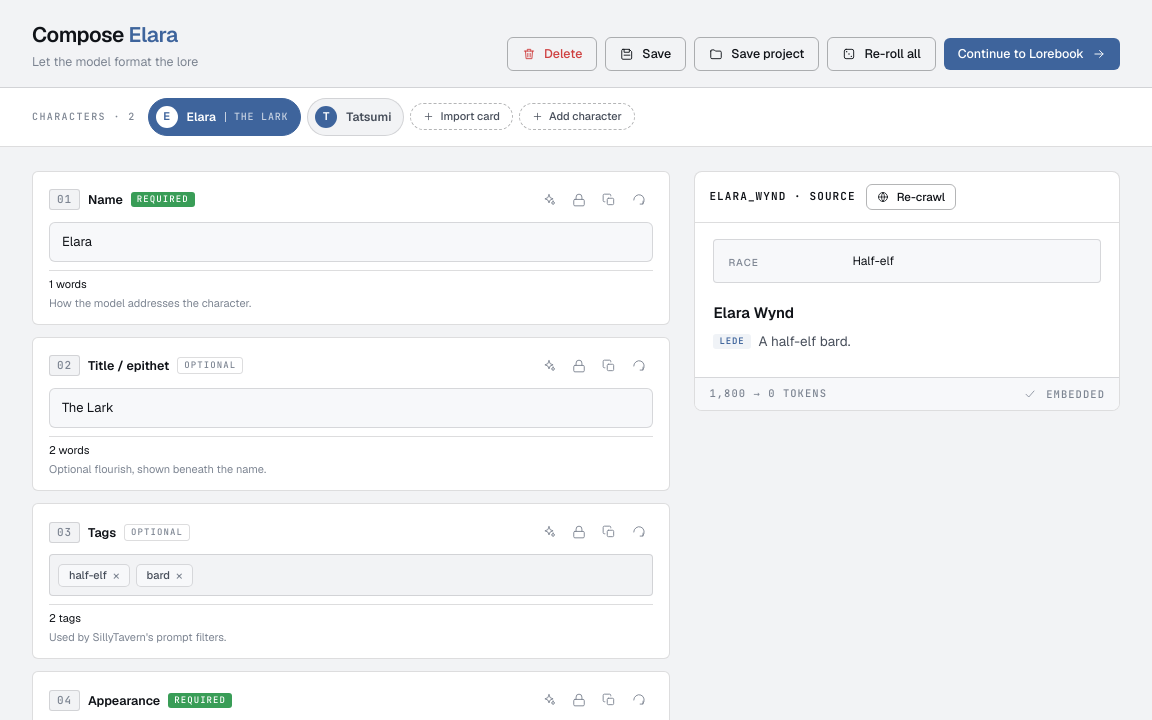
Test: EditorScreen › does not apply a mid-reroll result after switching characters
expect the text "The Lark" is shown: met, box [225,112,288,122]
// Start a reroll of the Appearance field (index 3) on the active character.
Click the button titled "Re-roll this field" in the row of "Appearance": (639, 700) [625,686,653,714]
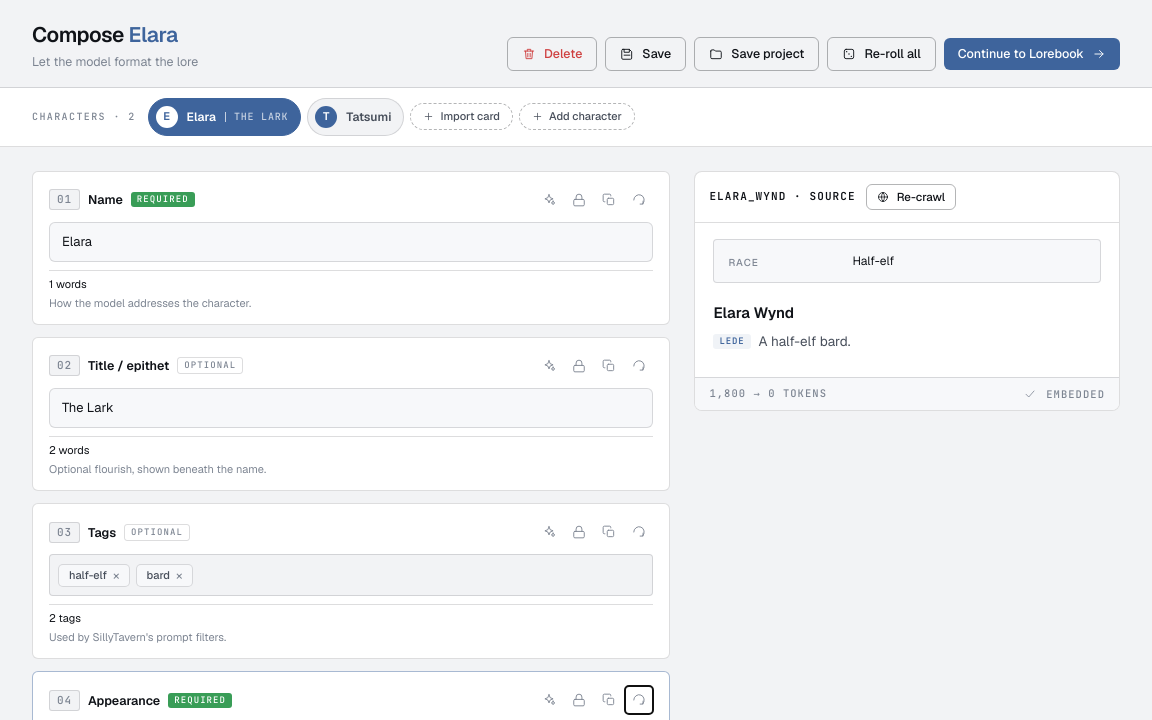
// Switch to Tatsumi while the reroll is still in flight.
Click the text "Tatsumi": (369, 117) [346,111,391,123]
(page scrolled)
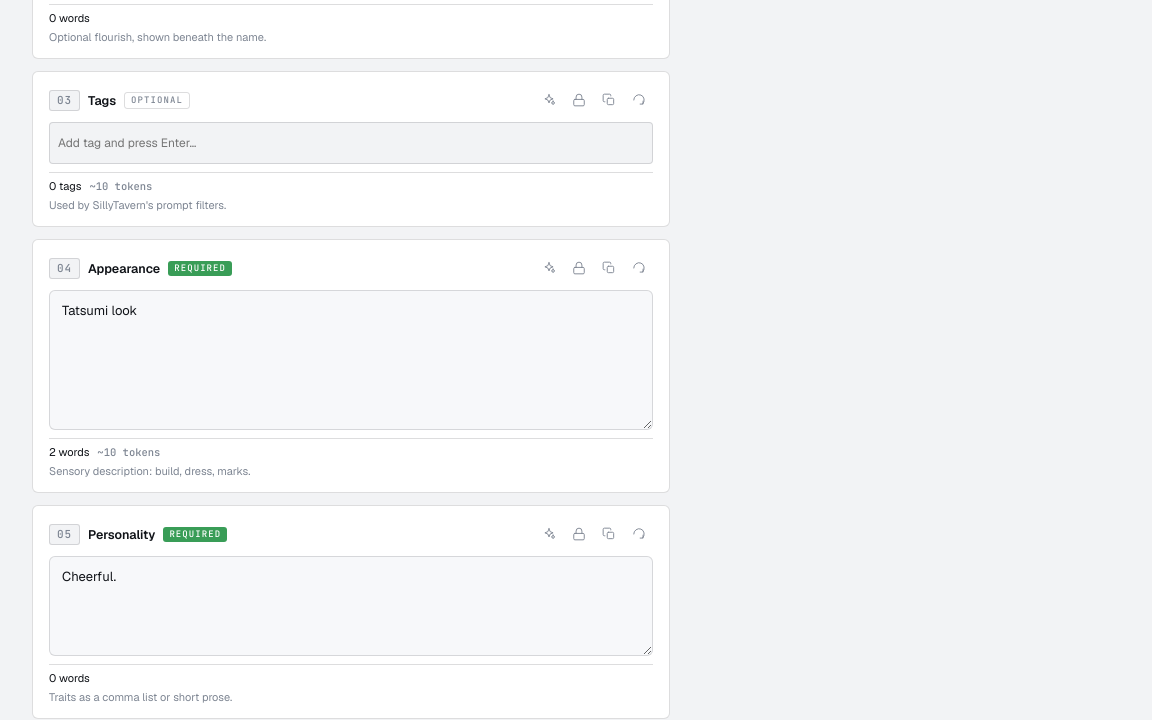
expect the text box showing "Tatsumi look" below "Appearance" is shown: met, box [49,290,653,430]
